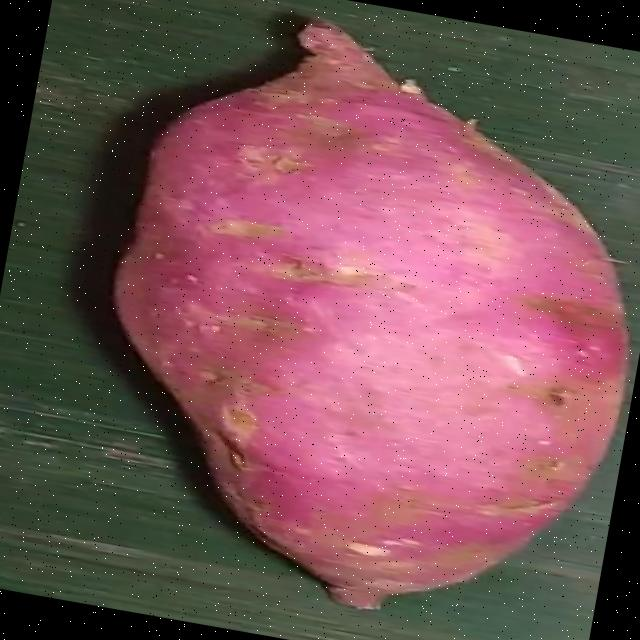Sweet Potato: (111, 16, 627, 612)
